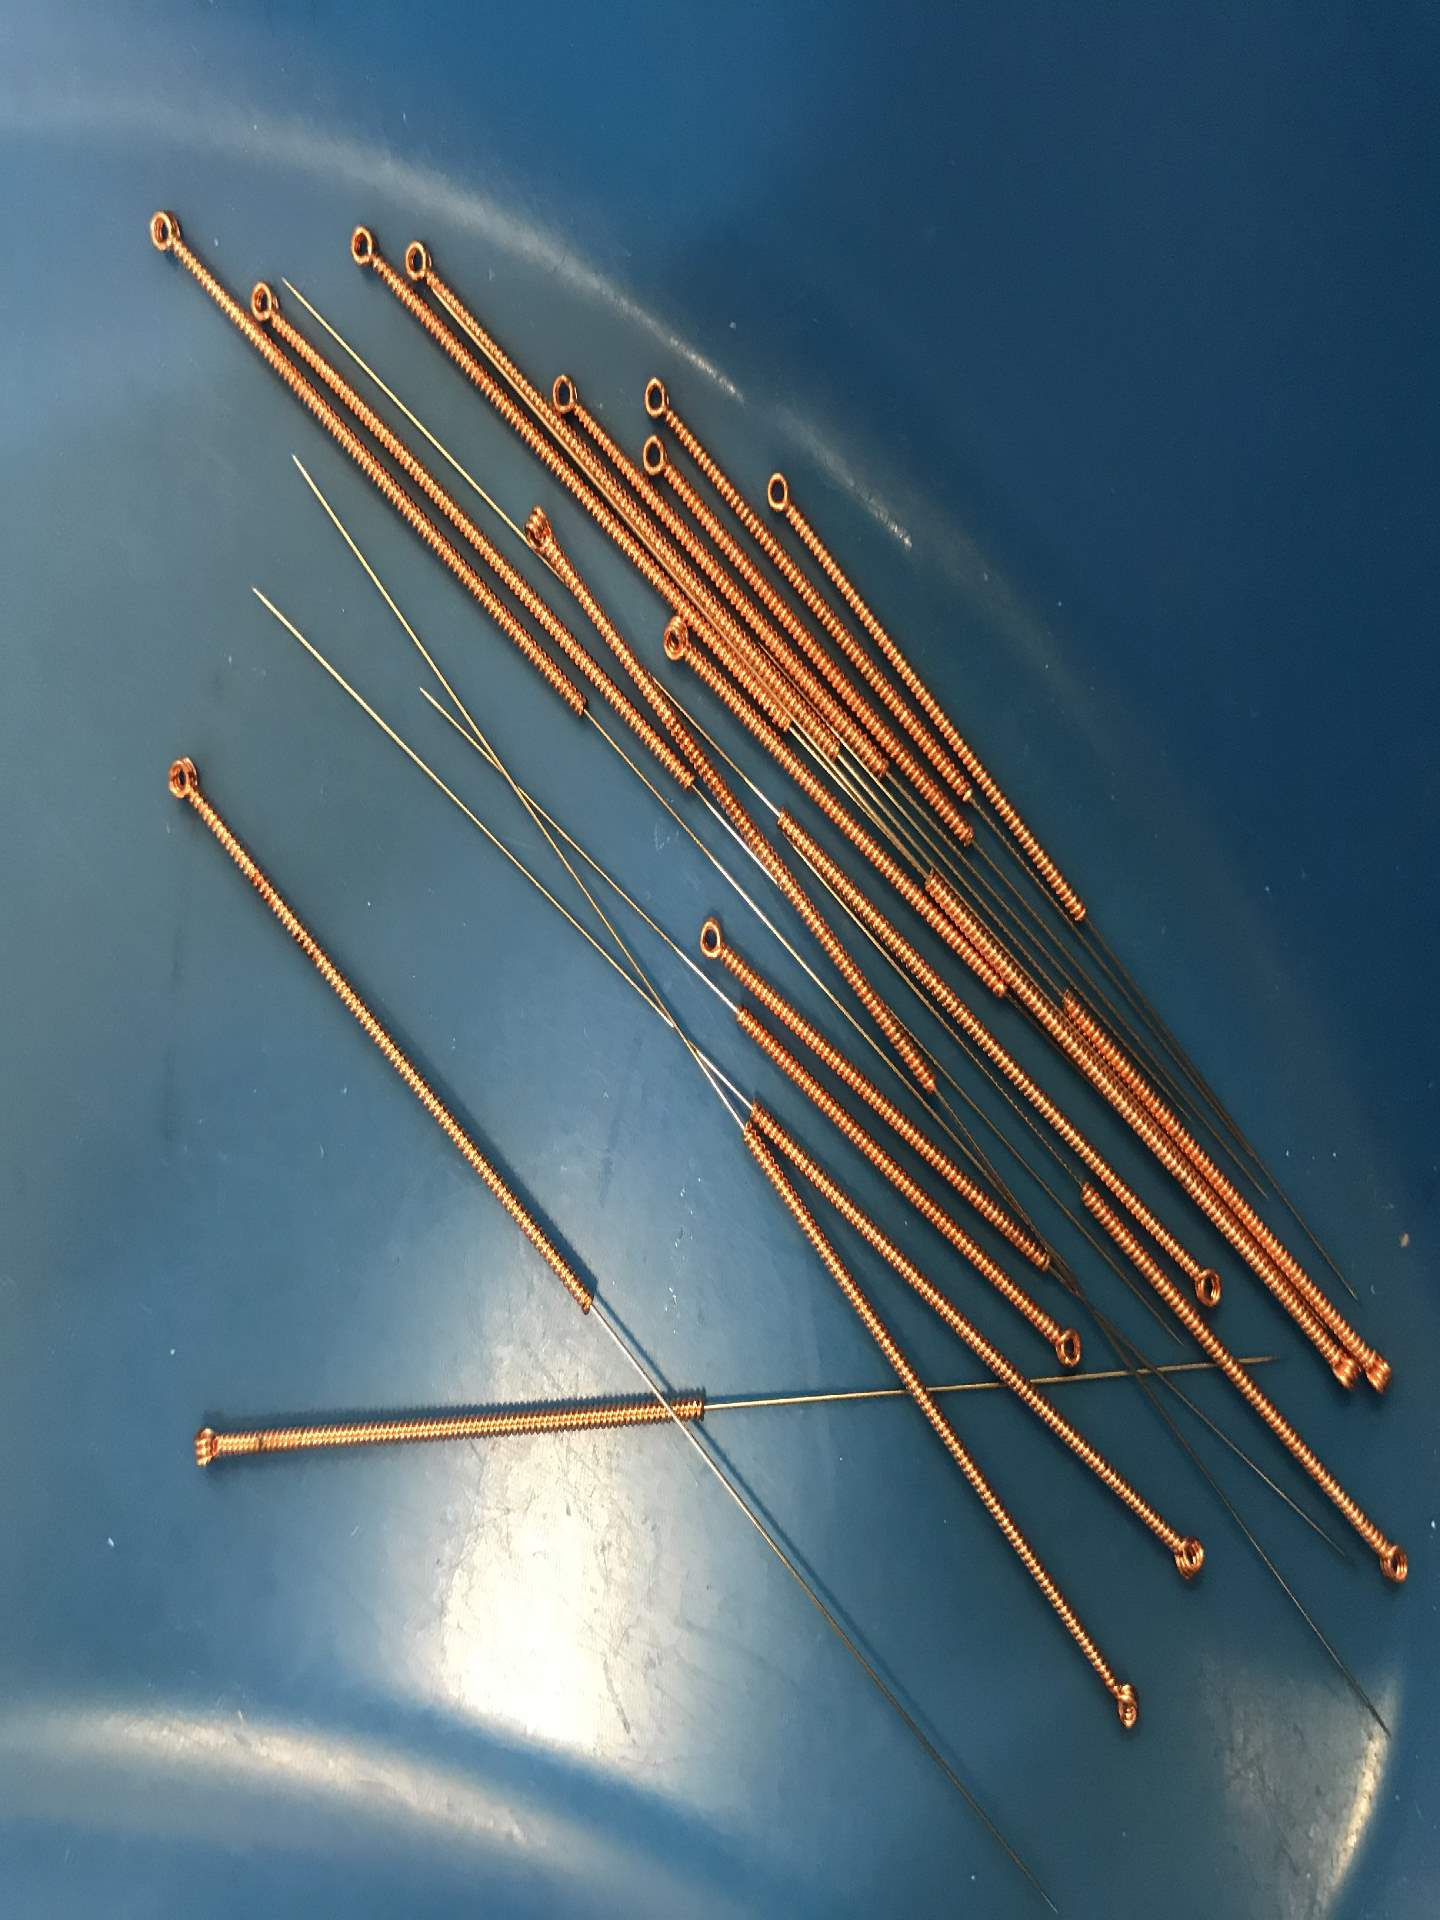needle: (172, 1417, 241, 1485), (138, 197, 197, 271), (154, 742, 210, 818), (1160, 1521, 1216, 1590), (334, 212, 390, 280), (1364, 1524, 1417, 1595), (510, 496, 566, 562), (1036, 1308, 1091, 1376), (1097, 1677, 1150, 1736), (629, 364, 679, 426), (684, 907, 734, 968), (758, 463, 805, 519), (1186, 1258, 1231, 1312), (396, 231, 439, 287), (548, 363, 588, 420), (653, 612, 691, 674), (635, 431, 676, 484), (1361, 1342, 1396, 1404), (247, 272, 283, 327), (1321, 1352, 1361, 1391)
